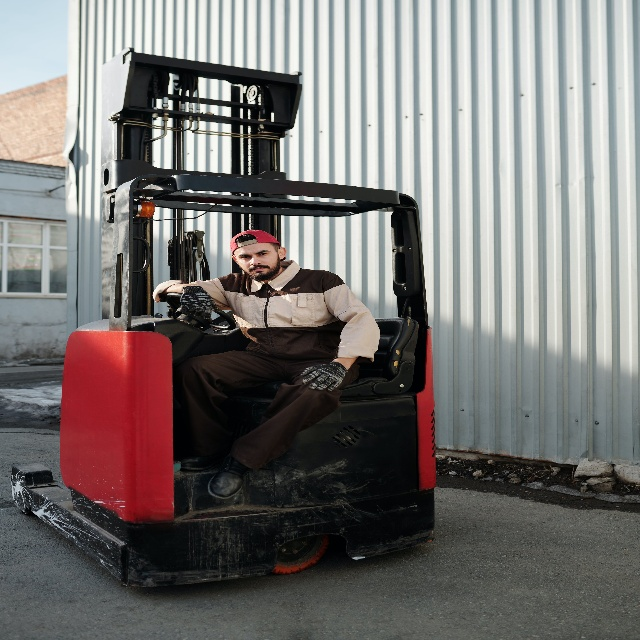Guantes: (179, 283, 221, 322), (300, 360, 348, 392)
